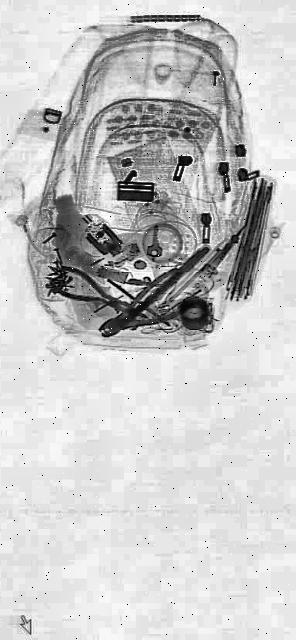Pliers: (96, 266, 186, 360), (52, 258, 152, 338)
